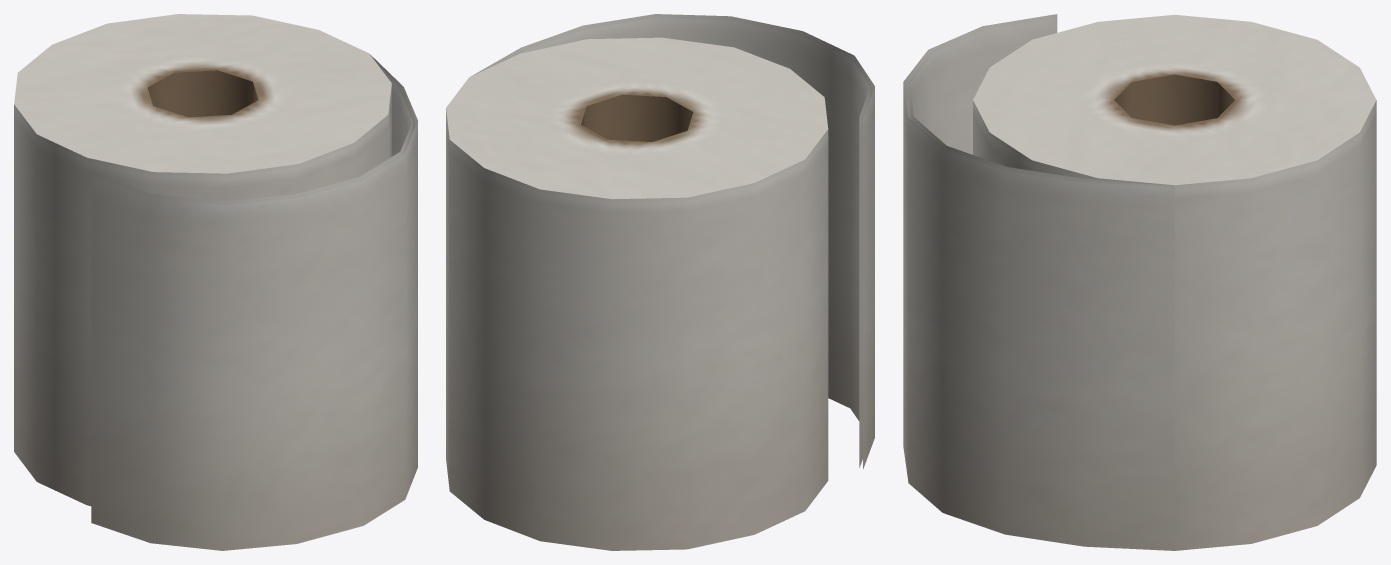
The model's file is ShenMiRenJia_01_juanzhi_01_UV2.FBX.
3 renders of one model, left to right at view 1: azimuth 30°, elevation 25°; view 2: azimuth 150°, elevation 25°; view 3: azimuth 270°, elevation 25°, orthographic. The views are drawn at different scales.
Visible parts, largest first — view 1: ShenMiRenJia_01_juanzhi_01_UV2; view 2: ShenMiRenJia_01_juanzhi_01_UV2; view 3: ShenMiRenJia_01_juanzhi_01_UV2.
Part boxes in pixels (x1=…): ShenMiRenJia_01_juanzhi_01_UV2: x1=14, y1=14, x2=417, y2=550; ShenMiRenJia_01_juanzhi_01_UV2: x1=446, y1=14, x2=874, y2=550; ShenMiRenJia_01_juanzhi_01_UV2: x1=903, y1=14, x2=1376, y2=550.
Size of the model in its own units: 41.55 by 41.44 by 48.53.
Materials: 1 (1 with a texture image).
